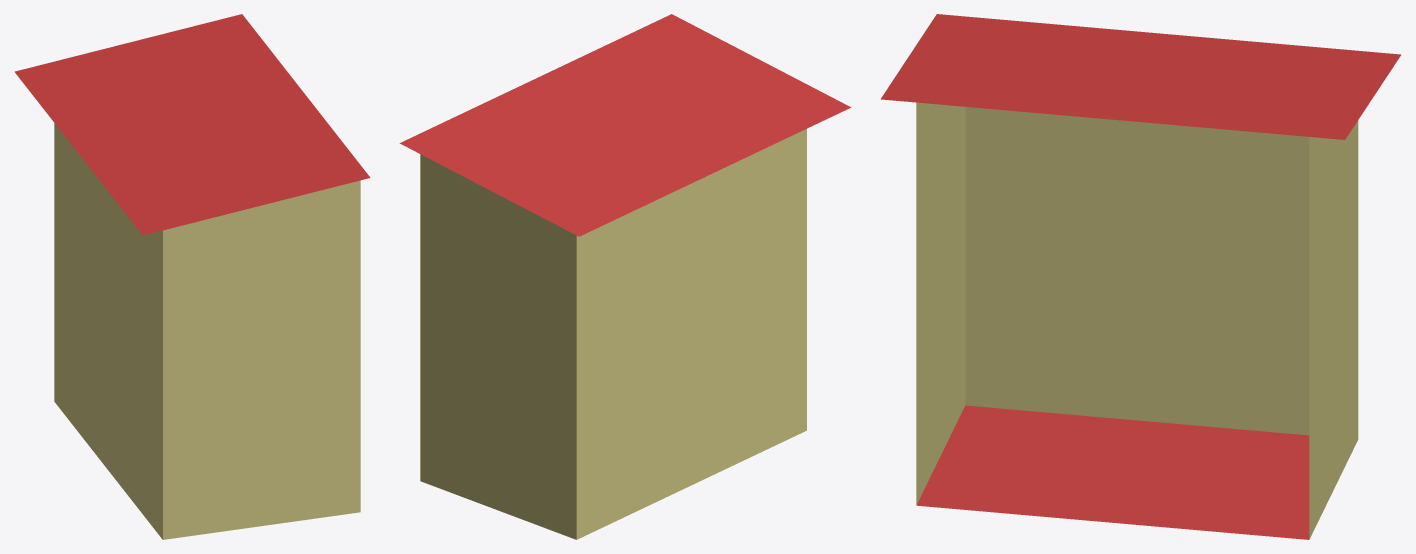
3 views of the same model, side by side, from view 1: azimuth 30°, elevation 25°; view 2: azimuth 150°, elevation 25°; view 3: azimuth 270°, elevation 25° (orthographic). The views are drawn at different scales.
Size of the model in its own units: 5.03 by 7.11 by 6.07.
